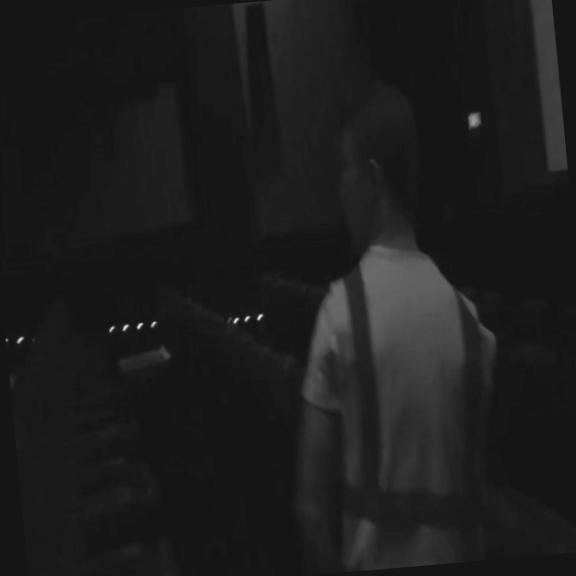safety_vest: (315, 250, 501, 573)
